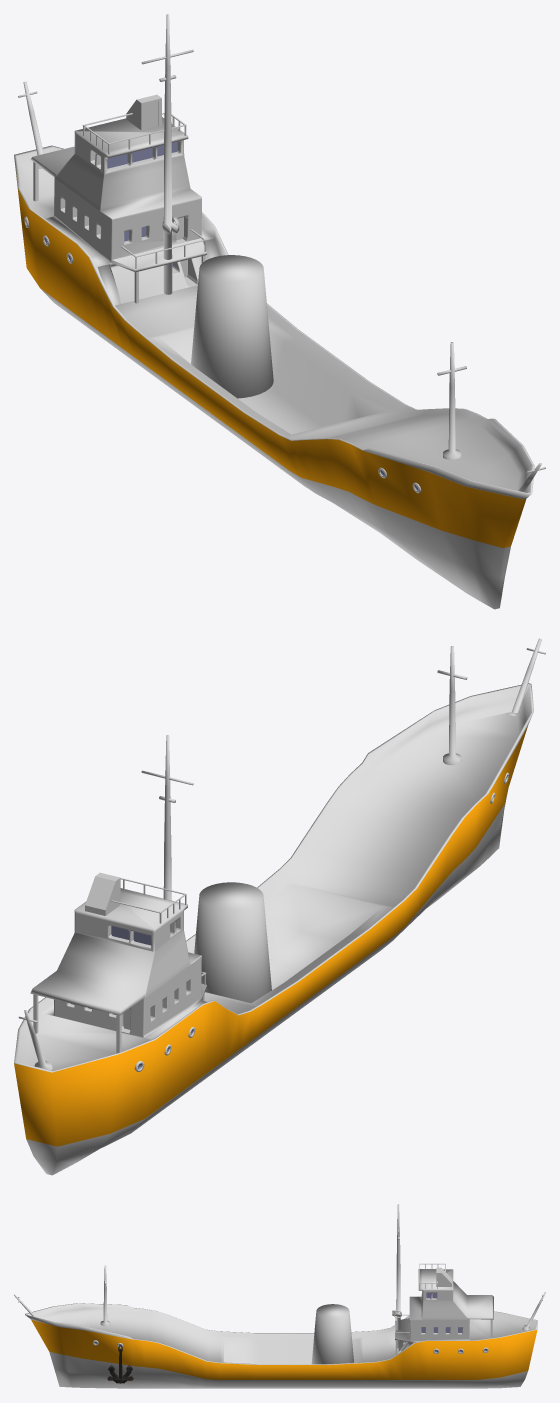
File: D1_Ship2.glb
3 renders of one model, top to bottom at view 1: azimuth 30°, elevation 25°; view 2: azimuth 150°, elevation 25°; view 3: azimuth 270°, elevation 25°, orthographic. The views are drawn at different scales.
Parts seen in each view (by area): view 1: Object_6, Object_2, Cylinder, Object_4; view 2: Object_6, Object_2, Cylinder; view 3: Object_6, Object_2, Cylinder, osnova_low.
Boxes of the visible parts, x1,y1,x2,y2 form: Object_6: [14, 14, 545, 609]; Object_2: [15, 164, 526, 548]; Cylinder: [191, 255, 273, 398]; Object_4: [26, 141, 418, 490]; Object_6: [14, 638, 545, 1175]; Object_2: [14, 726, 527, 1146]; Cylinder: [194, 882, 271, 1002]; Object_6: [14, 1204, 545, 1388]; Object_2: [31, 1319, 537, 1379]; Cylinder: [311, 1304, 353, 1364]; osnova_low: [107, 1365, 133, 1383].
Size of the model in its own units: 6.2 by 16.34 by 43.39.
5 materials, 1 textured.
